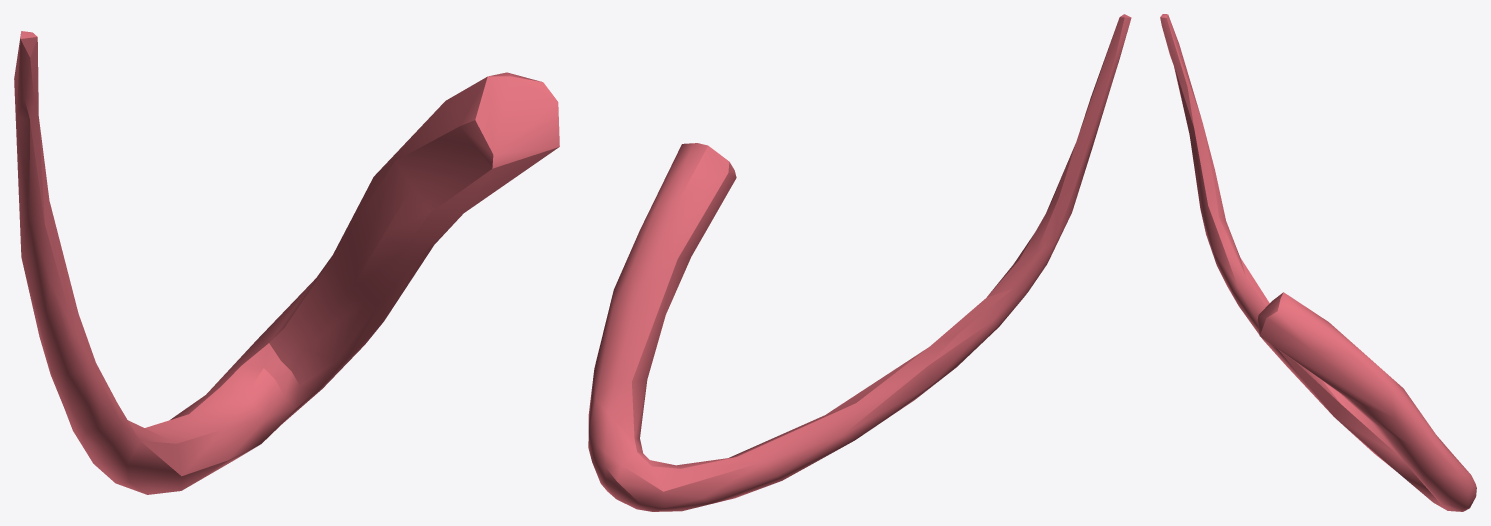
The model's file is fma18909_fj3616.glb.
The picture shows the model from 3 angles, left to right: view 1: azimuth 30°, elevation 25°; view 2: azimuth 150°, elevation 25°; view 3: azimuth 270°, elevation 25°; orthographic projection. The views are drawn at different scales.
Parts seen in each view (by area): view 1: FMA18909_FJ3616; view 2: FMA18909_FJ3616; view 3: FMA18909_FJ3616.
Boxes of the visible parts, <box> form: FMA18909_FJ3616: <box>14,31,559,494</box>; FMA18909_FJ3616: <box>588,14,1131,511</box>; FMA18909_FJ3616: <box>1160,14,1476,511</box>.
Size of the model in its own units: 0.0436 by 0.0476 by 0.037.
